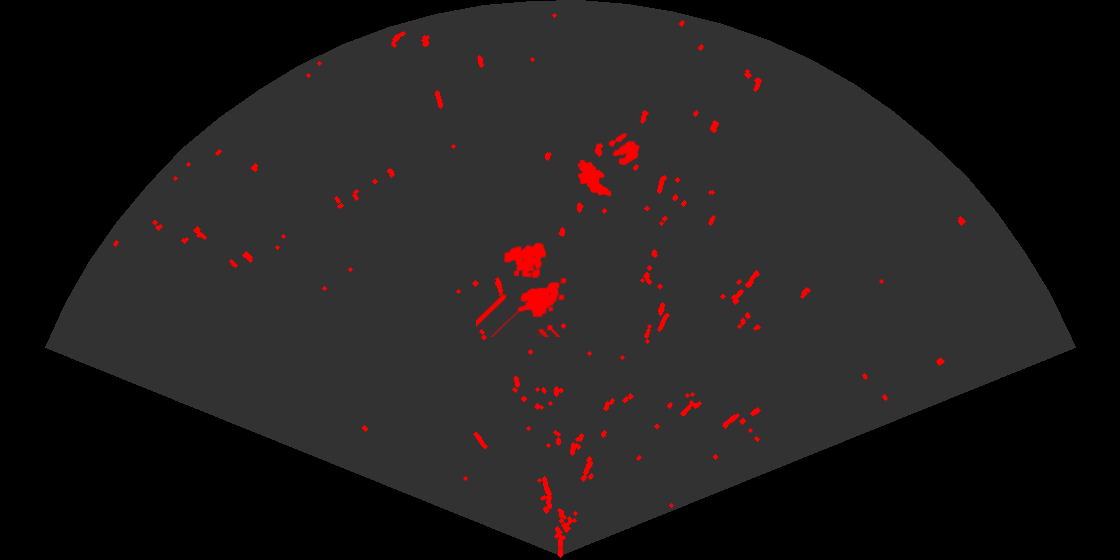AUV: (576, 158, 613, 198)
ball: (607, 131, 641, 167)
cage: (476, 241, 568, 337)
